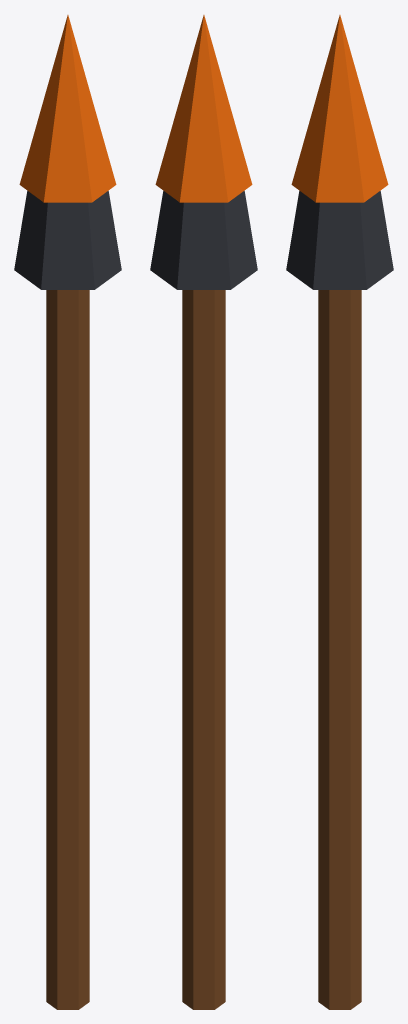
File: torch_tiki.glb
The picture shows the model from 3 angles, left to right: view 1: azimuth 90°, elevation 25°; view 2: azimuth 150°, elevation 25°; view 3: azimuth 270°, elevation 25°; orthographic projection.
Parts seen in each view (by area): view 1: torch_tiki; view 2: torch_tiki; view 3: torch_tiki.
Boxes of the visible parts, left/top/right/bottom form: torch_tiki: left=14, top=15, right=121, bottom=1009; torch_tiki: left=150, top=15, right=257, bottom=1009; torch_tiki: left=286, top=15, right=393, bottom=1009.
Bounding box in the file's own units: 0.1732 × 2.03 × 0.2.
